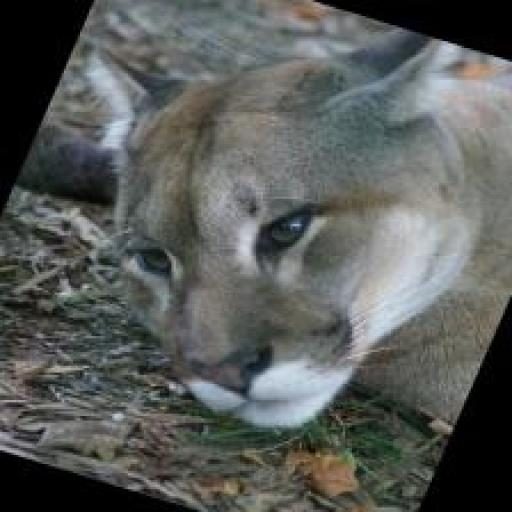lion: (0, 0, 511, 480)
